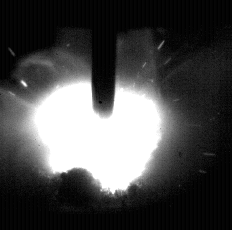arame: (92, 0, 117, 118)
poca: (34, 0, 162, 230)
